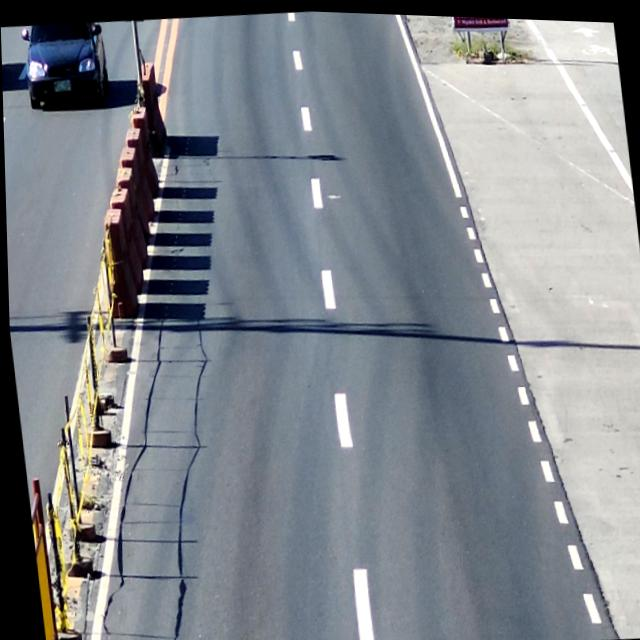Car: (16, 18, 110, 119)
License-Plate: (49, 76, 72, 96)
